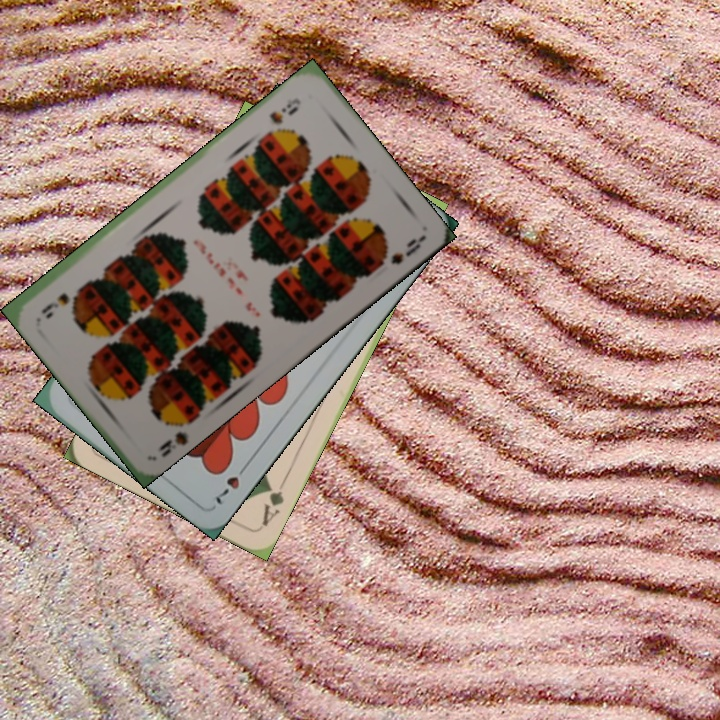GA: (257, 474, 289, 530)
H7: (211, 458, 252, 508)
S9: (153, 410, 197, 460), (265, 93, 304, 127)
